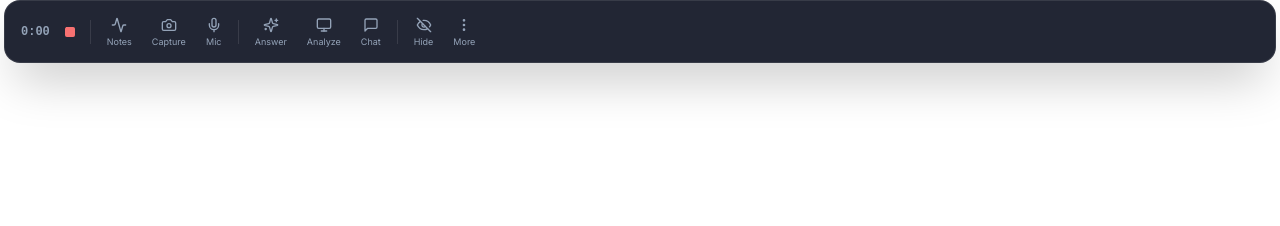
Test: SessionScreen › opens the same panel when Analyze Screen is clicked
The image size is (1280, 226).
What coordinates should you click on to do the following:
click the button with aria-label "analyze screen"
I would click on:
 (324, 32)
Its box is left=299, top=9, right=349, bottom=54.
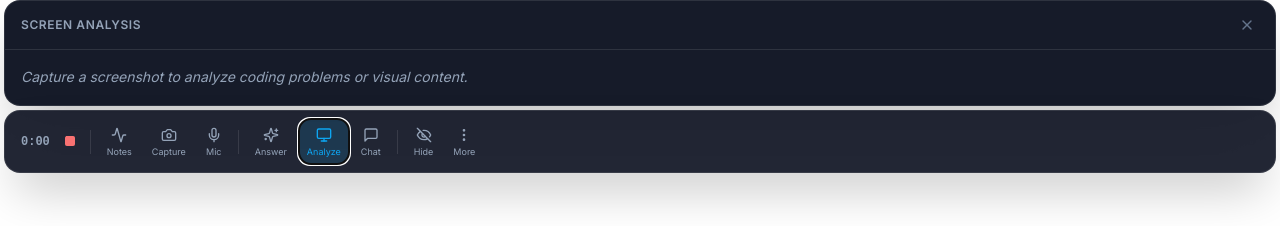
Result: the element named "ai panel" is shown at left=4, top=0, right=1276, bottom=106
